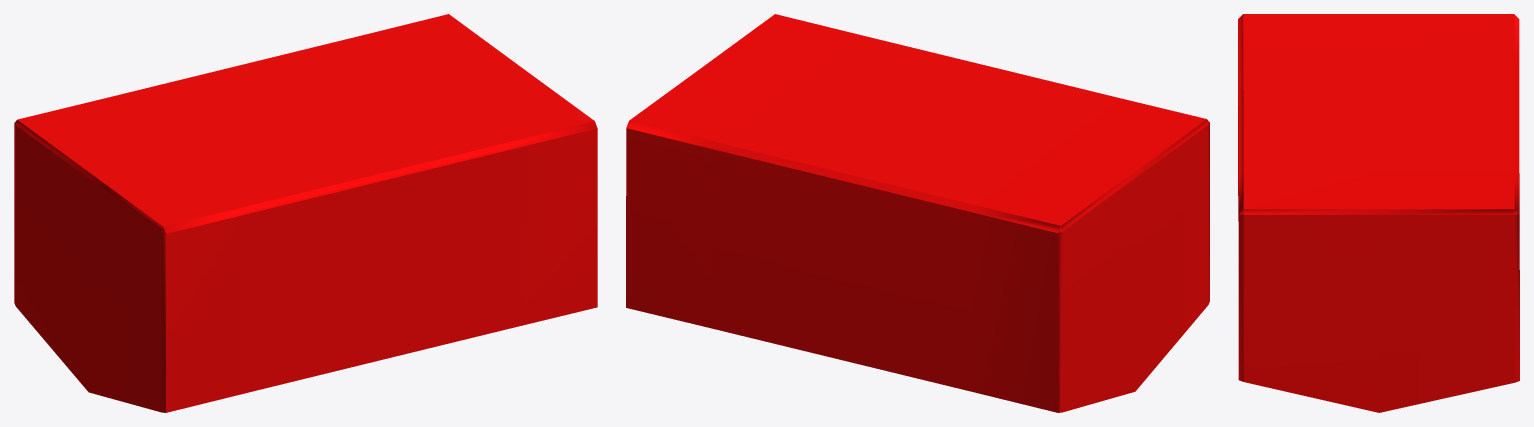
The model's file is MeshPsShelvingUnit_219_3_3.obj.
The picture shows the model from 3 angles, left to right: view 1: azimuth 30°, elevation 25°; view 2: azimuth 150°, elevation 25°; view 3: azimuth 270°, elevation 25°; orthographic projection. The views are drawn at different scales.
Visible parts, largest first — view 1: PsShelvingUnit_219_3; view 2: PsShelvingUnit_219_3; view 3: PsShelvingUnit_219_3.
Part boxes in pixels (left/top/right/bottom): PsShelvingUnit_219_3: left=14, top=14, right=597, bottom=412; PsShelvingUnit_219_3: left=626, top=14, right=1209, bottom=412; PsShelvingUnit_219_3: left=1238, top=14, right=1519, bottom=412.
Size of the model in its own units: 0.7608 by 0.3659 by 0.4606.
